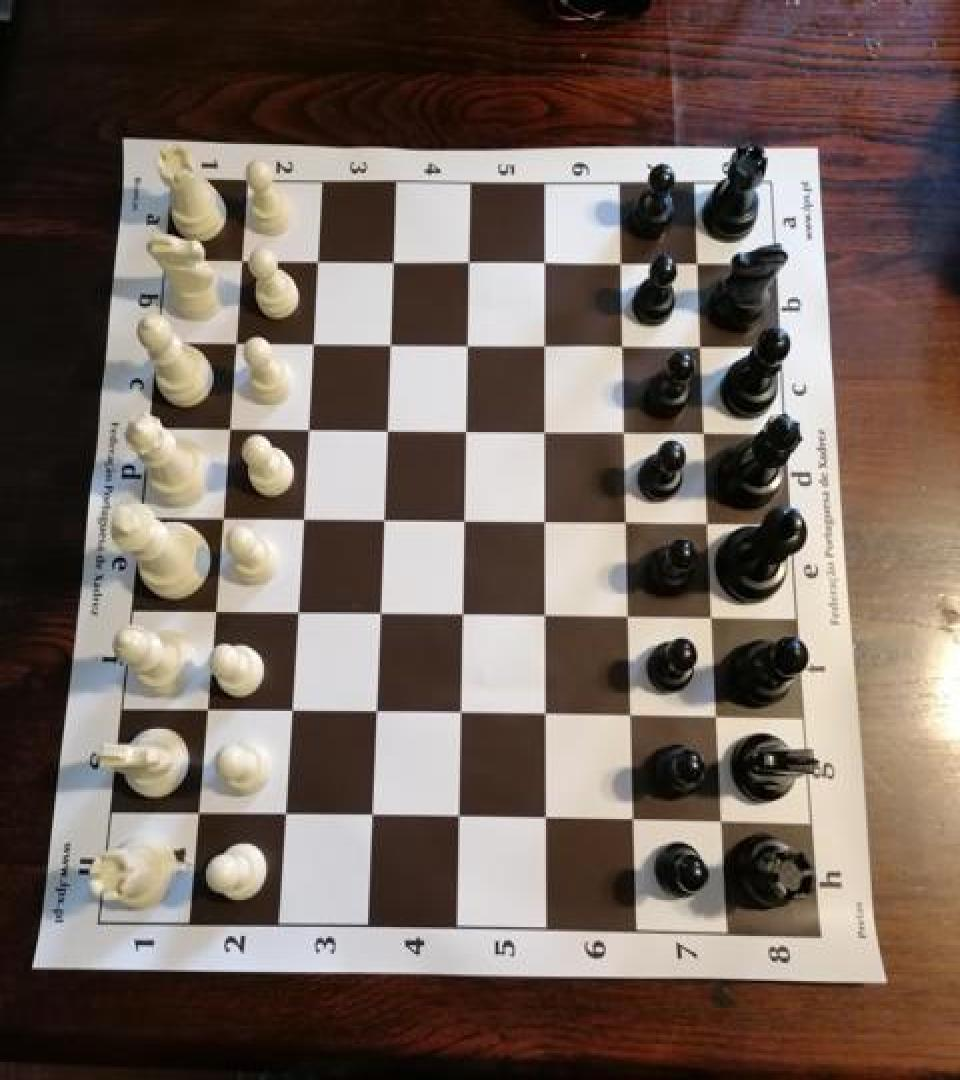xcorner: (682, 245, 712, 279), (605, 245, 635, 279), (528, 245, 558, 279), (452, 245, 482, 279), (376, 245, 406, 279), (301, 244, 331, 278), (226, 244, 256, 278), (528, 327, 558, 361), (451, 327, 481, 361), (373, 326, 403, 360), (296, 326, 326, 360), (219, 326, 249, 360), (689, 415, 719, 449), (609, 415, 639, 449), (529, 414, 559, 448), (449, 413, 479, 447), (370, 413, 400, 447), (291, 412, 321, 446), (212, 412, 242, 446), (694, 506, 724, 540), (611, 505, 641, 539), (529, 505, 559, 539), (447, 504, 477, 538), (366, 503, 396, 537), (285, 502, 315, 536), (698, 602, 728, 636), (529, 600, 559, 634), (446, 598, 476, 632), (362, 597, 392, 631), (279, 596, 309, 630), (197, 595, 227, 629), (703, 703, 733, 737), (616, 701, 646, 735), (530, 700, 560, 734), (444, 698, 474, 732), (358, 698, 388, 732), (273, 695, 303, 729), (189, 694, 219, 728), (708, 809, 738, 843), (619, 806, 649, 840), (530, 806, 560, 840), (442, 803, 472, 837), (354, 802, 384, 836), (267, 800, 297, 834), (180, 798, 210, 832), (685, 329, 715, 362), (607, 329, 637, 362), (205, 501, 235, 534), (614, 601, 644, 634)
